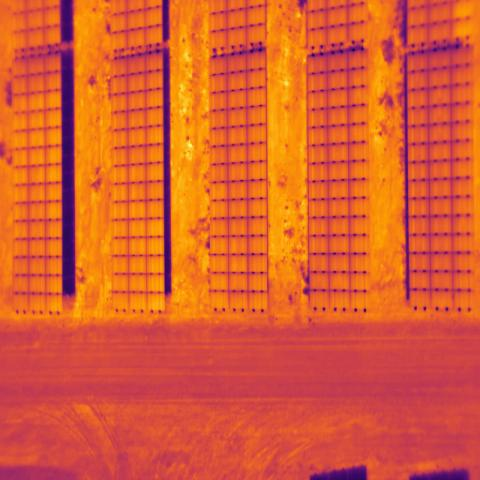fault: (452, 2, 473, 38)
